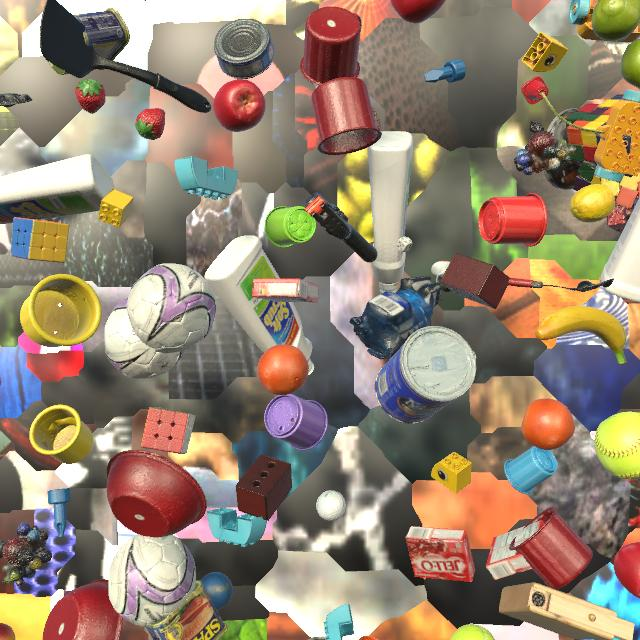ycb_002_master_chef_can: (375, 326, 476, 424)
ycb_007_tuna_fish_can: (214, 18, 275, 79), (307, 636, 326, 640)
ycb_009_gelatin_box: (405, 526, 475, 582), (486, 520, 544, 580), (252, 278, 319, 303)
ycb_010_potted_meat_can: (48, 8, 130, 75), (145, 580, 228, 640)
ycb_011_banana: (535, 306, 626, 365)
ycb_012_strawberry: (75, 78, 105, 114), (135, 108, 165, 140)
ycb_013_apple: (213, 79, 266, 132), (614, 542, 640, 598), (391, 0, 446, 24)
ycb_014_lemon: (570, 184, 615, 223)
ycb_015_peach: (0, 623, 16, 640)
ycb_016_pear: (591, 0, 640, 42), (621, 39, 640, 89)
ycb_017_orange: (521, 398, 575, 450), (257, 344, 309, 395)
